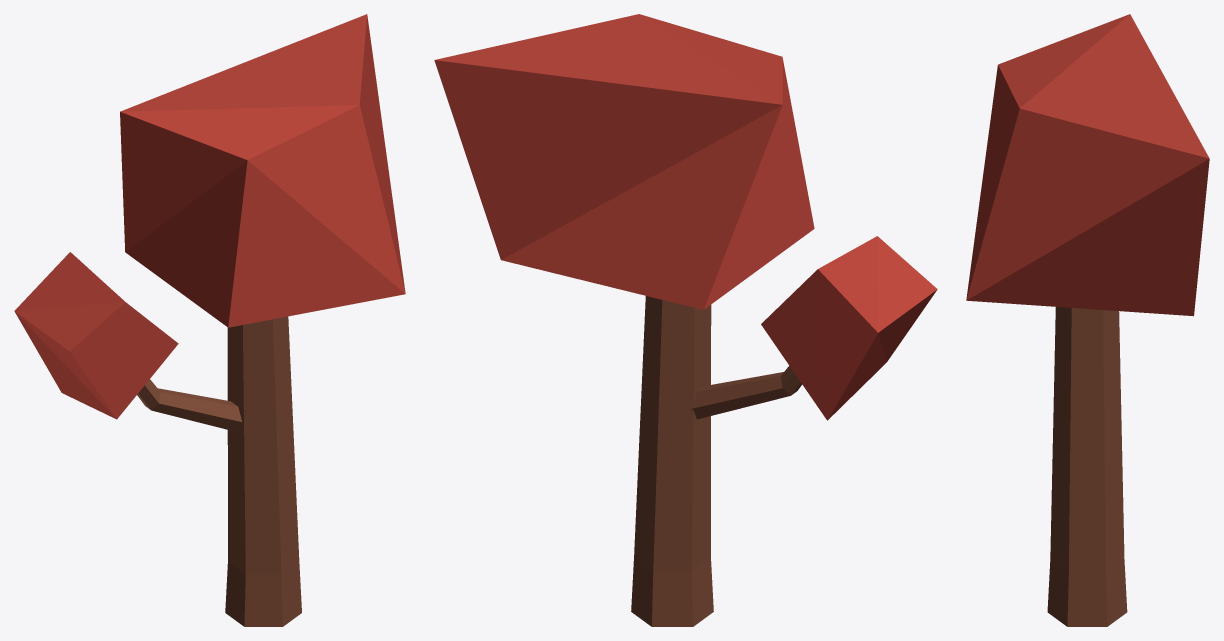
File: Tree_45_summer_red_vc.fbx
3 renders of one model, left to right at view 1: azimuth 30°, elevation 25°; view 2: azimuth 150°, elevation 25°; view 3: azimuth 270°, elevation 25°, orthographic. The views are drawn at different scales.
Parts seen in each view (by area): view 1: Tree_45_summer_red_vc; view 2: Tree_45_summer_red_vc; view 3: Tree_45_summer_red_vc.
Boxes of the visible parts, bbox=[...] form: Tree_45_summer_red_vc: bbox=[14, 14, 405, 626]; Tree_45_summer_red_vc: bbox=[434, 14, 937, 626]; Tree_45_summer_red_vc: bbox=[966, 14, 1209, 626].
Size of the model in its own units: 139 by 179 by 73.58.
